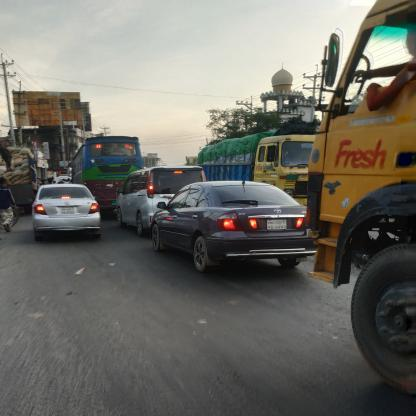license_plate: (266, 219, 289, 230), (60, 207, 76, 214)
